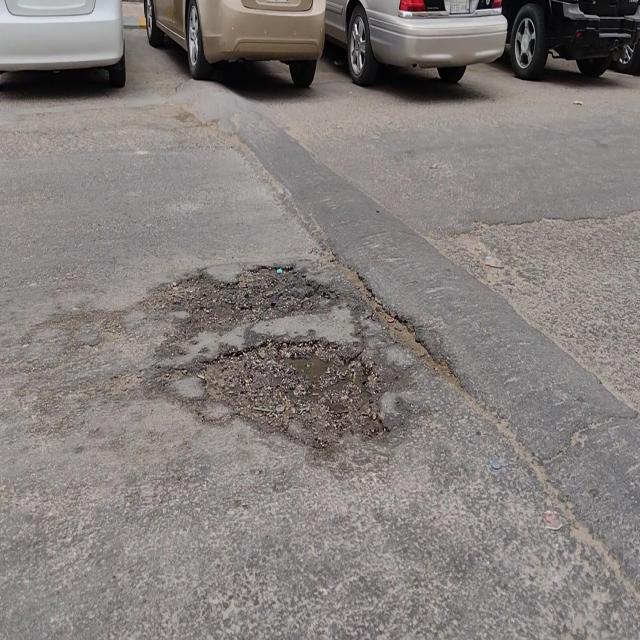Pothole: (199, 337, 386, 442), (161, 265, 331, 355)
